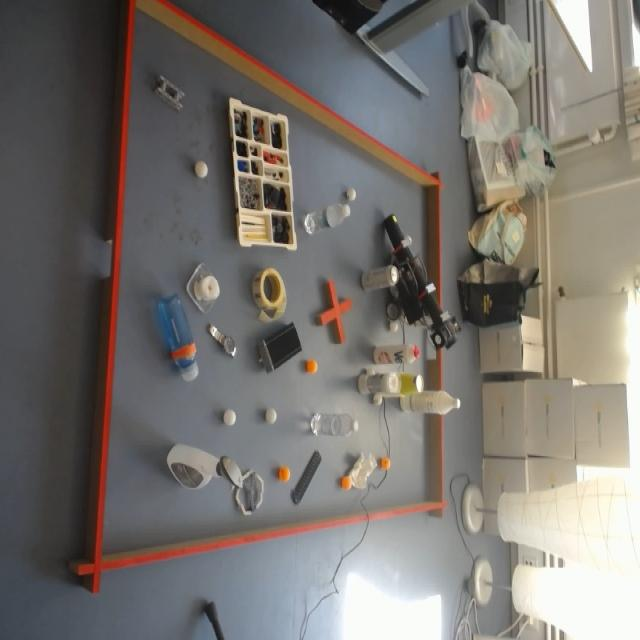orange: (278, 467, 290, 482), (306, 361, 318, 374), (341, 478, 352, 491), (380, 459, 391, 471)
robot: (384, 215, 460, 349)
robot-front: (391, 214, 398, 223)
white: (195, 160, 208, 178), (265, 408, 277, 425), (224, 411, 236, 426), (389, 320, 401, 333), (373, 393, 384, 406), (347, 187, 357, 201)
